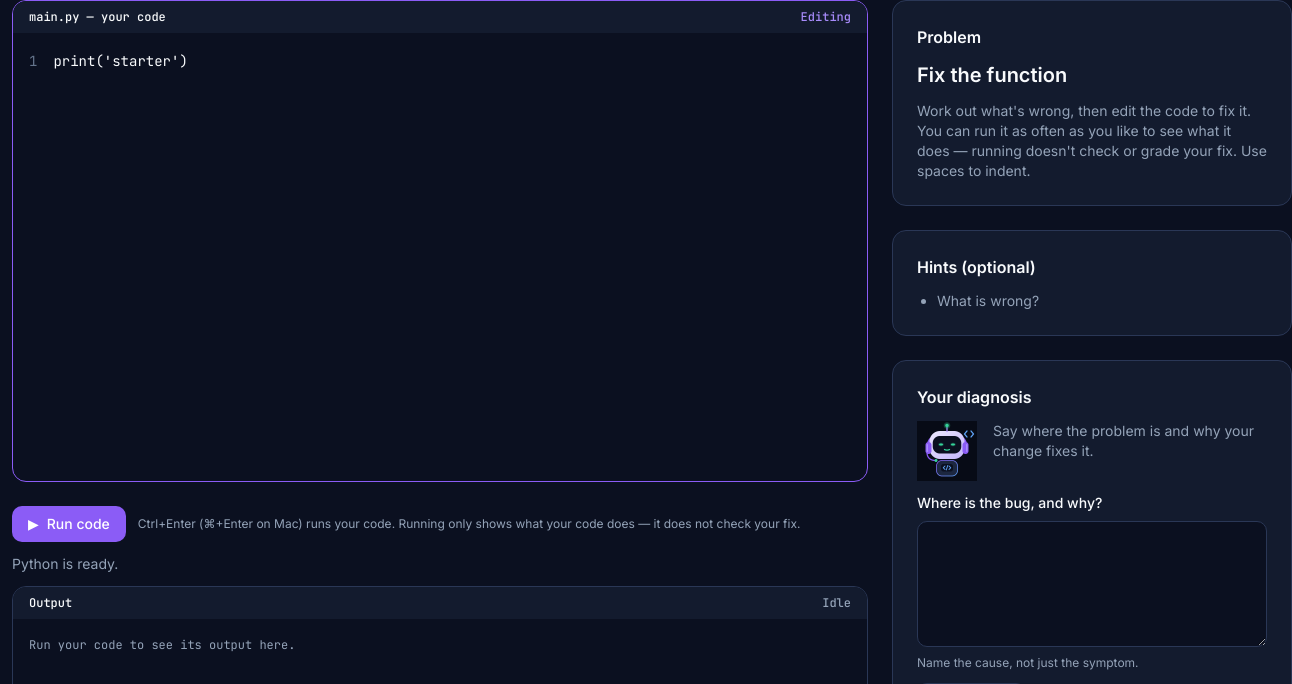
it: Fix stage: running code › explains {"status":"timeout"} in plain language
Click the button "▶ Run code": (69, 524) [12, 506, 126, 542]
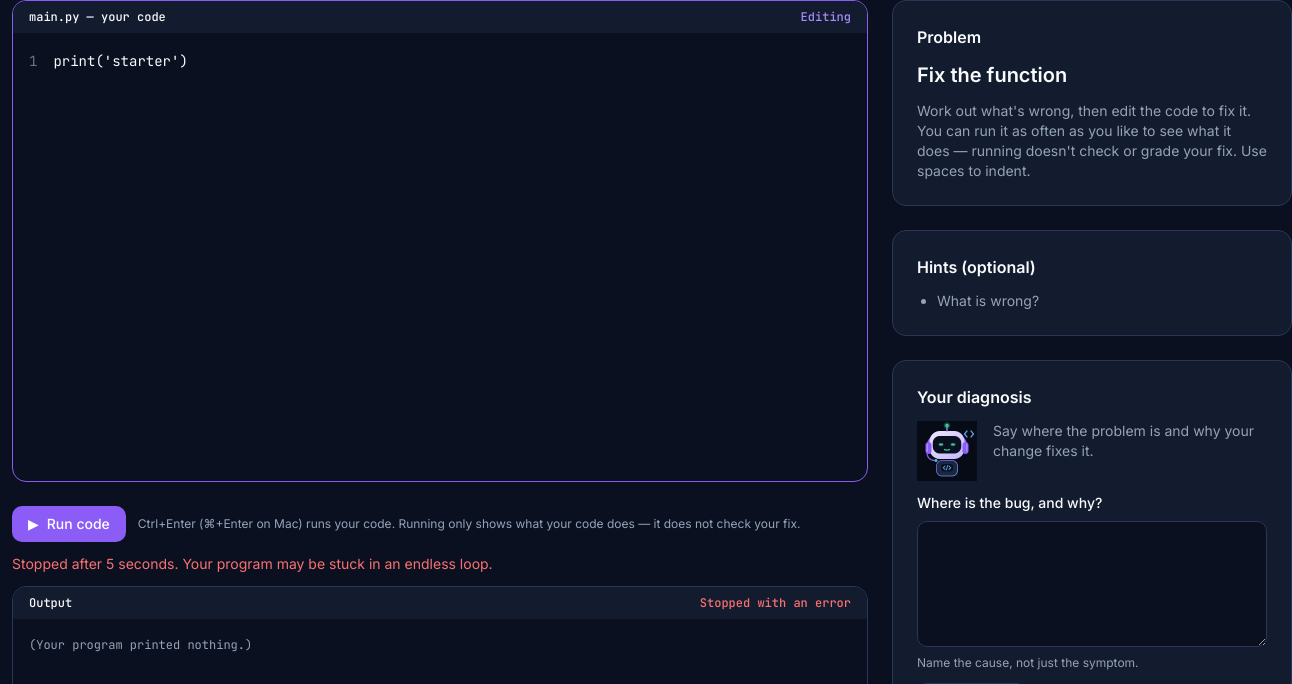
Expected: the message with test id "run-status" reads "Stopped after 5 seconds. Your program may be stuck in an endless loop.", [12, 555, 493, 572]
